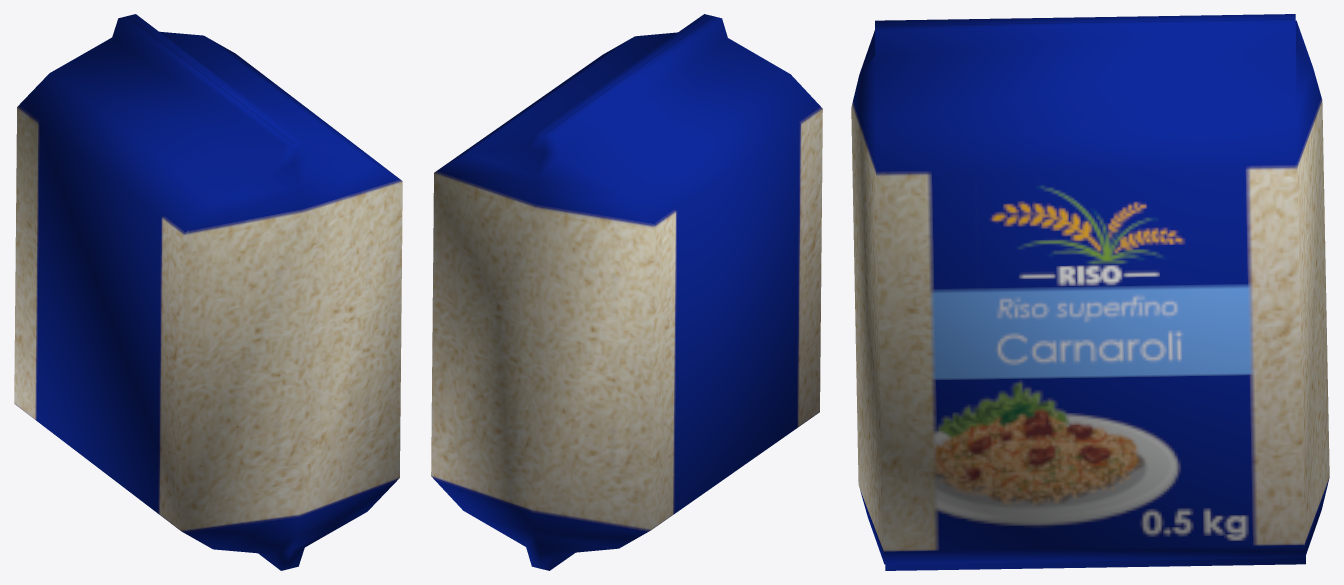
File: riso_plastica_0,5kg.fbx
3 views of the same model, side by side, from view 1: azimuth 30°, elevation 25°; view 2: azimuth 150°, elevation 25°; view 3: azimuth 270°, elevation 25° (orthographic). The views are drawn at different scales.
Visible parts, largest first — view 1: riso_plastica_0.5kg; view 2: riso_plastica_0.5kg; view 3: riso_plastica_0.5kg.
Boxes of the visible parts, x1,y1,x2,y2 form: riso_plastica_0.5kg: (14,14,402,570); riso_plastica_0.5kg: (431,14,822,570); riso_plastica_0.5kg: (851,14,1329,570).
Size of the model in its own units: 73.23 by 139 by 110.
